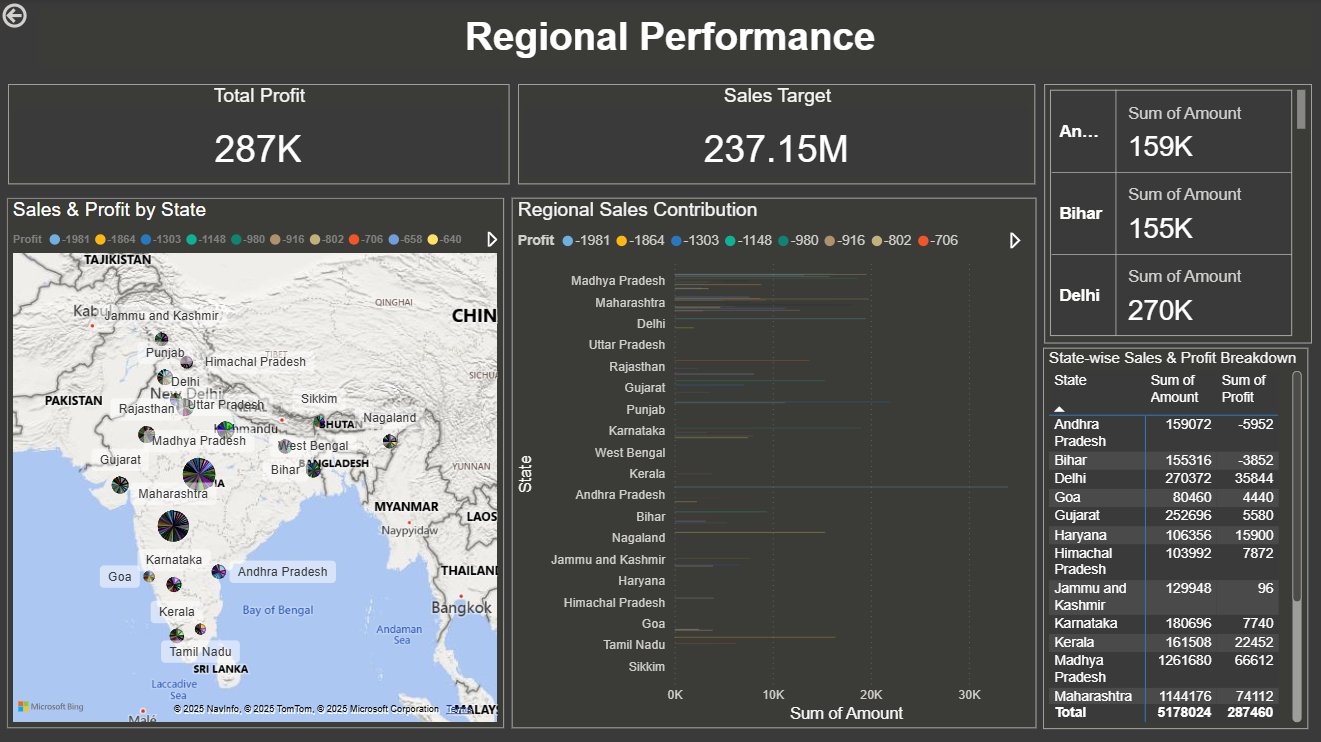

The dashboard page shown, as its layout file describes it:
{"tool":"powerbi","page":{"name":"Regional Performance","canvas":[1280,720],"ordinal":1},"visuals":[{"type":"map","title":"Sales & Profit by State","fields":{"Category":["Query1.State"],"Size":["Sum(Query1.Amount)"],"Series":["Query1.Profit"]},"box":[9,192,480,512],"z":0},{"type":"clusteredBarChart","title":"Regional Sales Contribution","fields":{"Category":["Query1.State"],"Y":["Sum(Query1.Amount)"],"Series":["Query1.Profit"]},"box":[496,192,506,512],"z":1000},{"type":"cardVisual","title":"Total Profit","fields":{"Data":["Sum(Query1.Profit)"]},"box":[9.7,82,483.8,96.5],"z":2000},{"type":"pivotTable","title":"State-wise Sales & Profit Breakdown","fields":{"Rows":["Query1.State"],"Values":["Sum(Query1.Amount)","Sum(Query1.Profit)"]},"box":[1008,336,256,368],"z":3000},{"type":"actionButton","box":[0,0,32,32],"z":4000},{"type":"cardVisual","title":"Sales Target","fields":{"Data":["Sum(Query1.Target)"]},"box":[501.9,82,499.5,96.5],"z":5000},{"type":"cardVisual","fields":{"Data":["Sum(Query1.Amount)"],"Rows":["Query1.State"]},"box":[1010.1,81.9,258,250.7],"z":6000},{"type":"textbox","box":[39.8,9.7,1228.2,56.7],"z":7000}]}

Visuals, with their boxes in screenshot pixels (x1, y1, x2, y2), scaled from the page's 1280x720 canvas onto the 1321x742 screenshot:
"Sales & Profit by State" map: {"left": 9, "top": 198, "right": 505, "bottom": 726}
"Regional Sales Contribution" clusteredBarChart: {"left": 512, "top": 198, "right": 1034, "bottom": 726}
"Total Profit" cardVisual: {"left": 10, "top": 85, "right": 509, "bottom": 184}
"State-wise Sales & Profit Breakdown" pivotTable: {"left": 1040, "top": 346, "right": 1304, "bottom": 726}
actionButton: {"left": 0, "top": 0, "right": 33, "bottom": 33}
"Sales Target" cardVisual: {"left": 518, "top": 85, "right": 1033, "bottom": 184}
cardVisual - Sum(Query1.Amount) x Query1.State: {"left": 1042, "top": 84, "right": 1309, "bottom": 343}
textbox: {"left": 41, "top": 10, "right": 1309, "bottom": 68}
